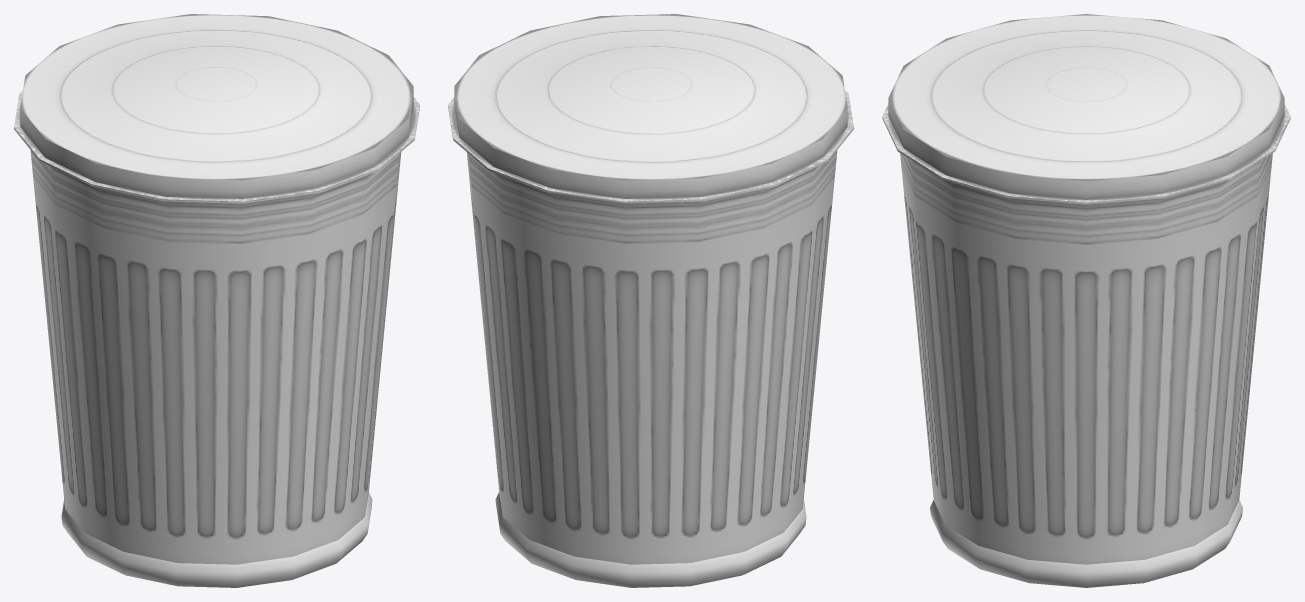
The model's file is Trashcan_Metal_Round.fbx.
The picture shows the model from 3 angles, left to right: view 1: azimuth 30°, elevation 25°; view 2: azimuth 150°, elevation 25°; view 3: azimuth 270°, elevation 25°; orthographic projection.
Visible parts, largest first — view 1: Trashcan_Metal_Round_Low, Trashcan_Metal_Round_Lid_Low_New; view 2: Trashcan_Metal_Round_Low, Trashcan_Metal_Round_Lid_Low_New; view 3: Trashcan_Metal_Round_Low, Trashcan_Metal_Round_Lid_Low_New.
Part boxes in pixels (x1,y1,x2,y2): Trashcan_Metal_Round_Low: (30,150,401,587); Trashcan_Metal_Round_Lid_Low_New: (14,14,419,203); Trashcan_Metal_Round_Low: (466,150,837,587); Trashcan_Metal_Round_Lid_Low_New: (448,14,853,203); Trashcan_Metal_Round_Low: (900,153,1272,587); Trashcan_Metal_Round_Lid_Low_New: (882,14,1290,204).
Bounding box in the file's own units: 109 × 129 × 109.
